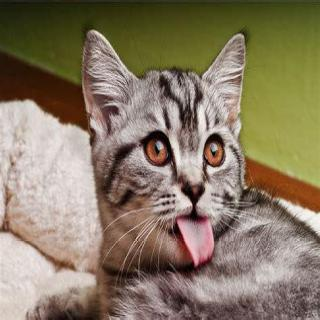cat: (79, 27, 263, 281)
